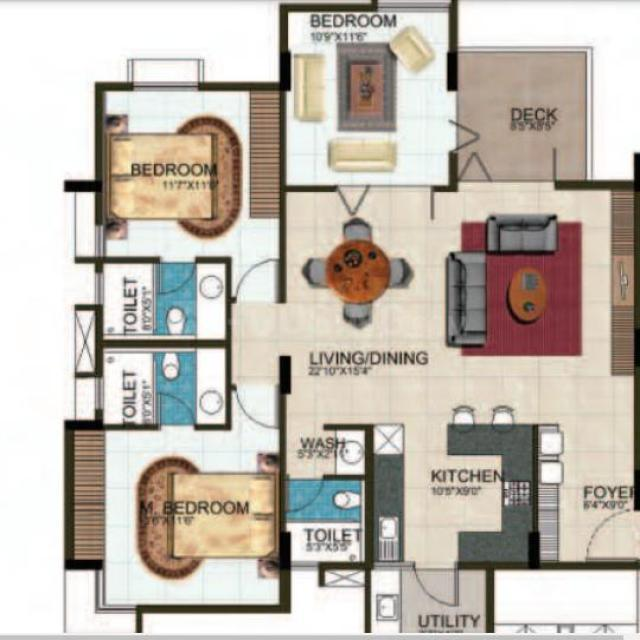Bedroom: (287, 10, 454, 187)
Bedroom with Toilet: (67, 343, 284, 607), (98, 85, 283, 342)
Dining: (299, 215, 414, 331)
Enterance-Foyer: (537, 425, 638, 564)
Kitchen: (370, 425, 534, 562)
Living: (433, 189, 637, 433)
Toilet: (104, 263, 226, 341), (103, 348, 226, 425), (286, 479, 366, 562)
Utility: (367, 568, 491, 636)
